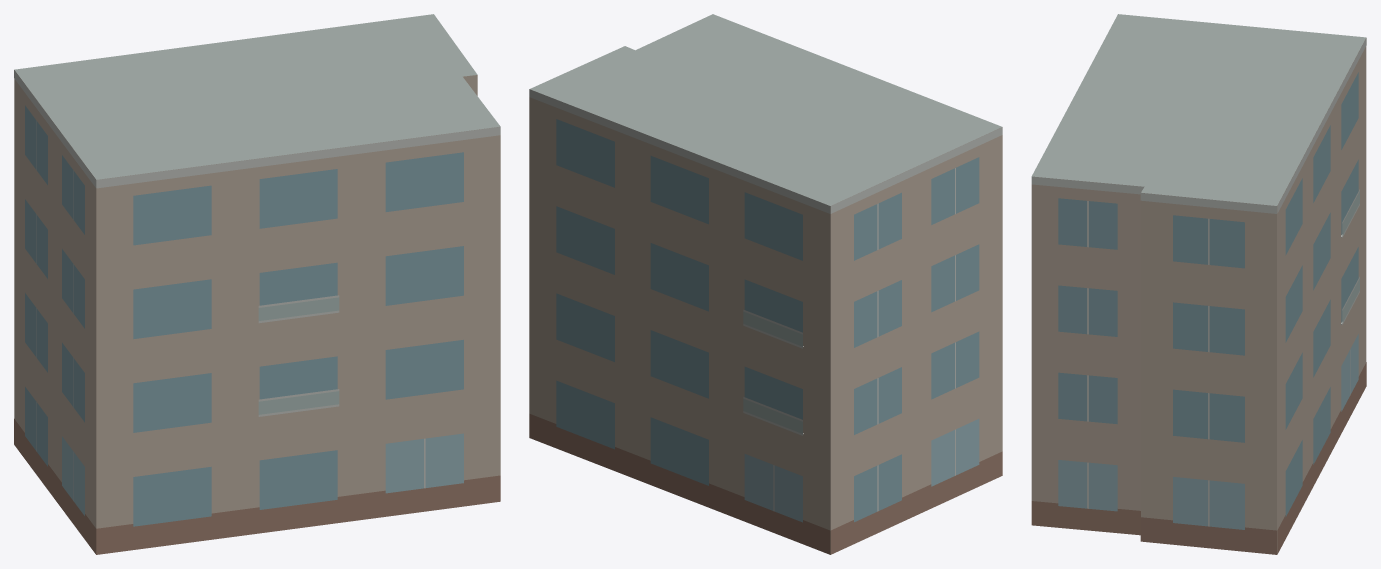
Rendered from survey-upis-32532042.glb.
3 renders of one model, left to right at view 1: azimuth 30°, elevation 25°; view 2: azimuth 150°, elevation 25°; view 3: azimuth 270°, elevation 25°, orthographic. The views are drawn at different scales.
Parts seen in each view (by area): view 1: survey-upis-32532042.tmp; view 2: survey-upis-32532042.tmp; view 3: survey-upis-32532042.tmp.
Boxes of the visible parts, left/top/right/bottom form: survey-upis-32532042.tmp: left=14, top=14, right=500, bottom=554; survey-upis-32532042.tmp: left=529, top=14, right=1002, bottom=554; survey-upis-32532042.tmp: left=1031, top=14, right=1366, bottom=554.
Bounding box in the file's own units: 12.59 × 10.65 × 9.28.
